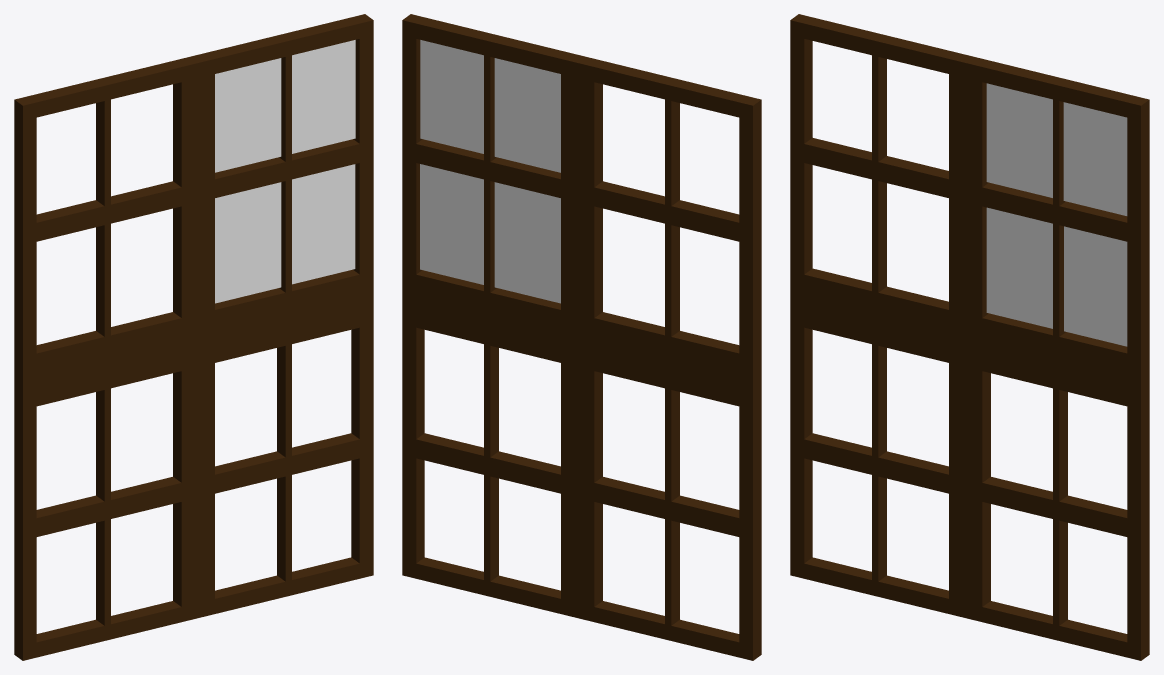
Rendered from basicdoor.glb.
3 views of the same model, side by side, from view 1: azimuth 30°, elevation 25°; view 2: azimuth 150°, elevation 25°; view 3: azimuth 330°, elevation 25° (orthographic).
Visible parts, largest first — view 1: Cube, Cube.002, Cube.001, Cube.004, Cube.003; view 2: Cube, Cube.002, Cube.001, Cube.004, Cube.003; view 3: Cube, Cube.002, Cube.001, Cube.004, Cube.003.
Part boxes in pixels (x1=…): Cube: x1=14, y1=14, x2=373, y2=660; Cube.002: x1=215, y1=182, x2=281, y2=303; Cube.001: x1=292, y1=164, x2=355, y2=284; Cube.004: x1=215, y1=58, x2=281, y2=172; Cube.003: x1=292, y1=40, x2=355, y2=153; Cube: x1=402, y1=14, x2=761, y2=660; Cube.002: x1=494, y1=182, x2=560, y2=303; Cube.001: x1=420, y1=164, x2=483, y2=284; Cube.004: x1=494, y1=58, x2=560, y2=172; Cube.003: x1=420, y1=40, x2=483, y2=153; Cube: x1=790, y1=14, x2=1149, y2=660; Cube.002: x1=986, y1=207, x2=1052, y2=328; Cube.001: x1=1064, y1=226, x2=1127, y2=346; Cube.004: x1=986, y1=83, x2=1052, y2=197; Cube.003: x1=1063, y1=102, x2=1127, y2=215.
Bounding box in the file's own units: 4.42 × 6.69 × 0.1849.
